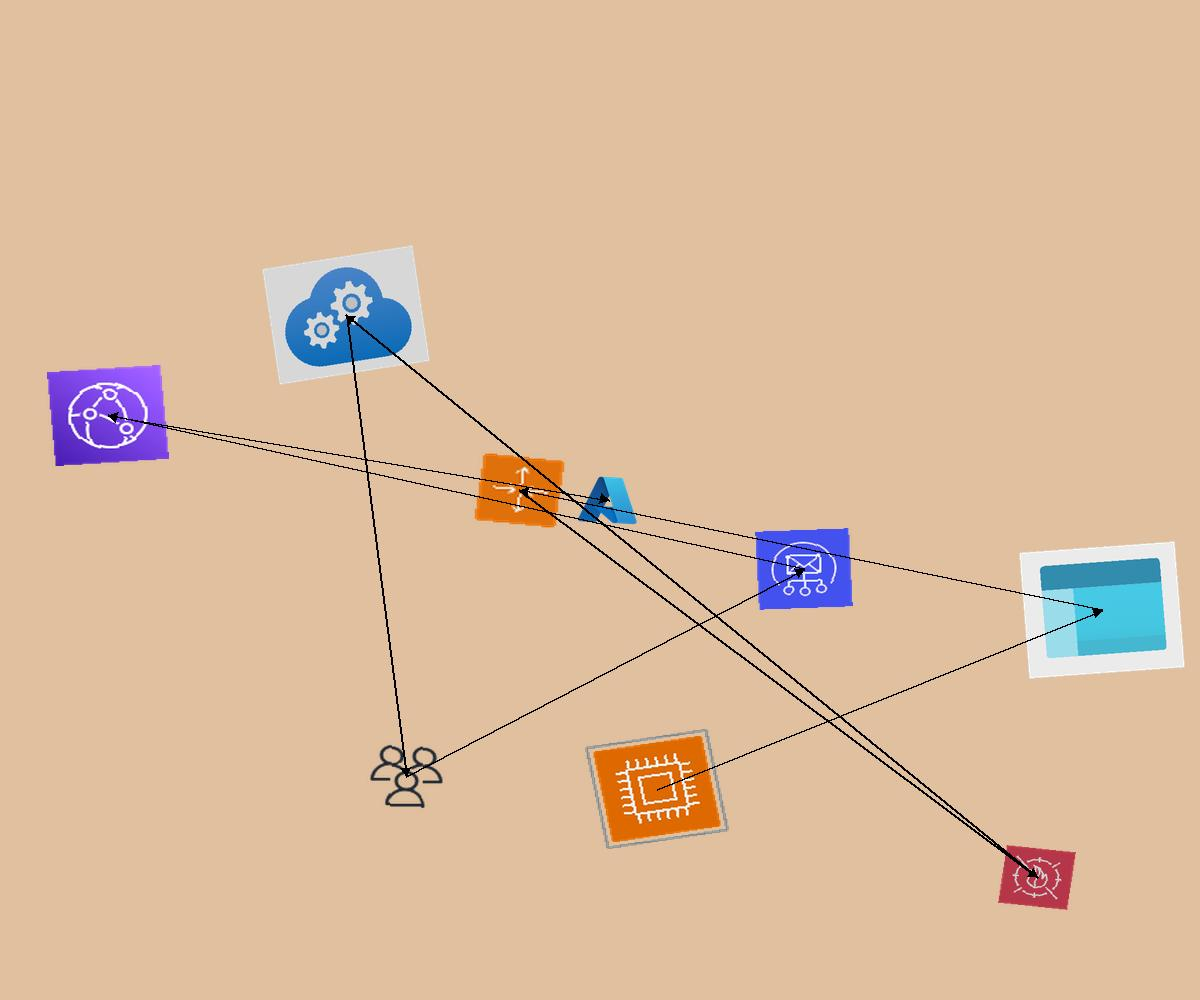AWS-Category_Compute: (584, 728, 730, 850)
AWS-CloudFront: (47, 365, 169, 466)
AWS-Res_Users: (364, 741, 449, 812)
AWS-Scaling-group: (473, 452, 566, 529)
AWS-Simple-Email-Service: (755, 528, 853, 610)
AWS-WAF: (998, 845, 1076, 910)
Azure_cloud_services: (262, 245, 430, 385)
Azure_management-portal: (1019, 541, 1185, 679)
Azure_services: (575, 472, 643, 528)
